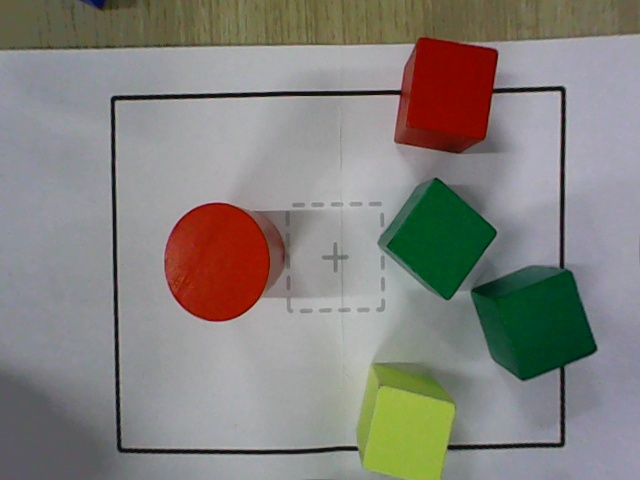upside of cylinder: (163, 203, 271, 324)
upside of small cube: (387, 178, 498, 302), (495, 270, 599, 380), (406, 38, 498, 138), (360, 386, 457, 479)
